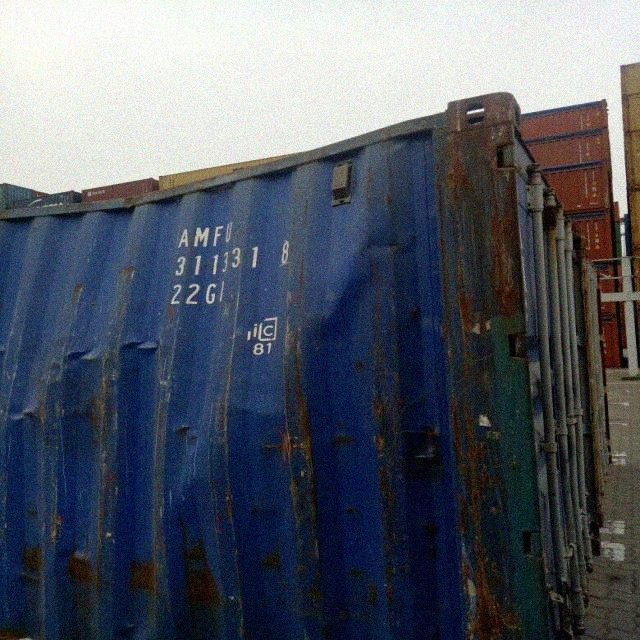Dent: (70, 342, 453, 586)
